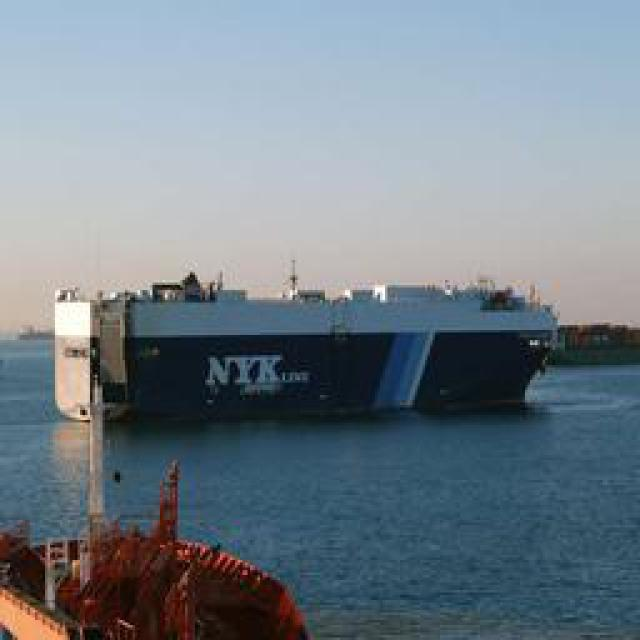Ship: (112, 282, 560, 420)
